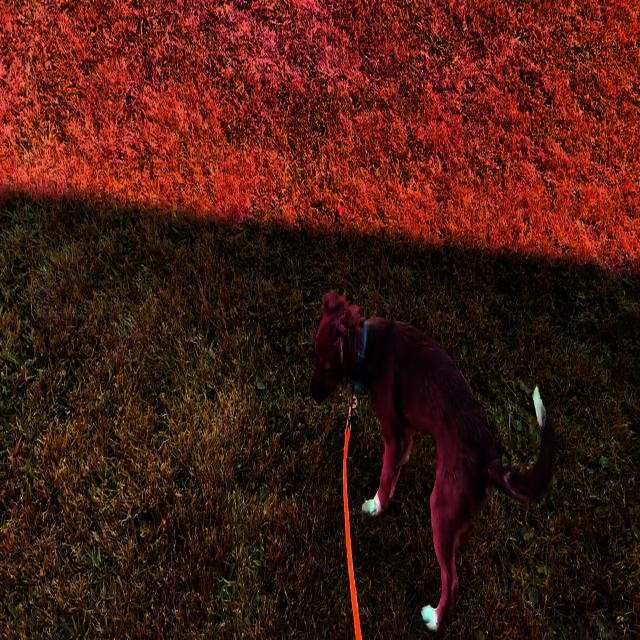Dog: (308, 290, 557, 634)
